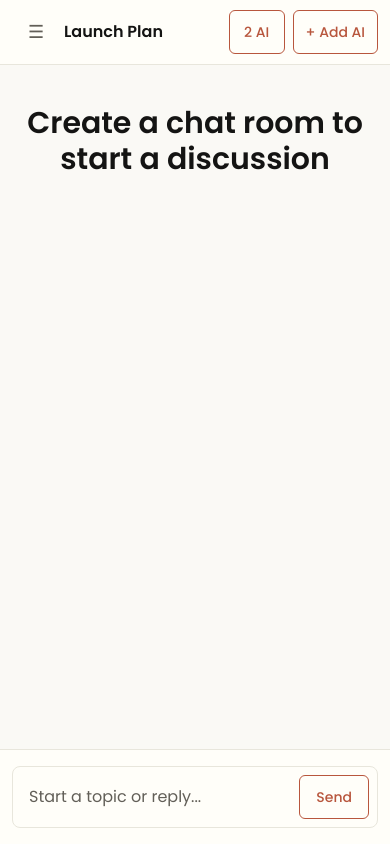
ChatShell › removes an AI instance from the mobile AI instance list
Step 1. Click the button with aria-label "Show added AI instances" → (256, 32), box [228,10,284,54]
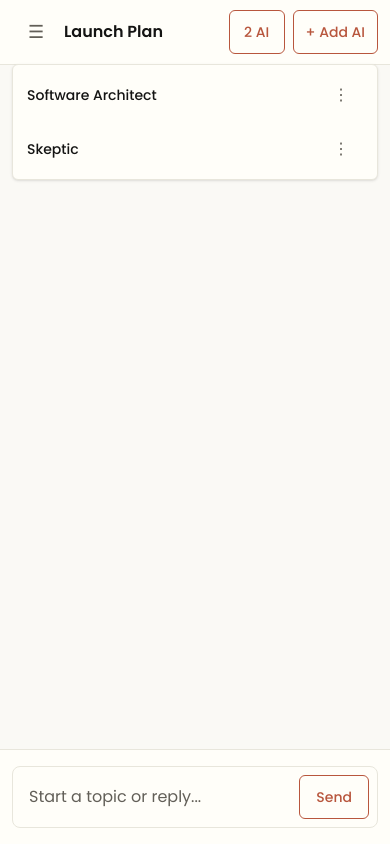
Step 2. Click the button named "Skeptic options" → (341, 149), box [319,127,363,171]
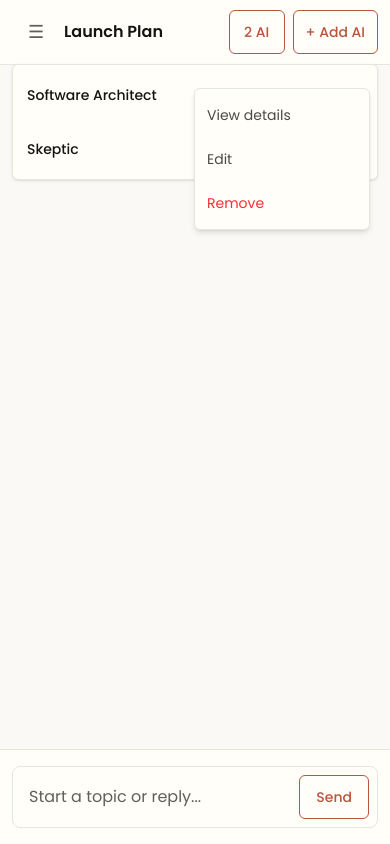
Step 3. Click the button "Remove" → (282, 203), box [195,181,369,225]
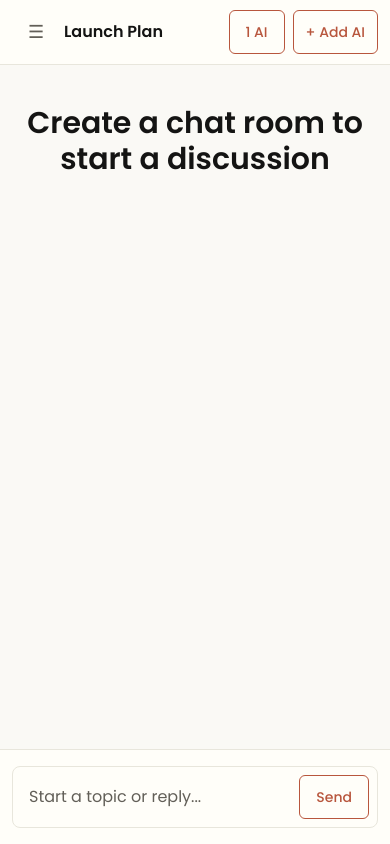
expect the button "1 AI" is shown: met, box [228,10,284,54]
